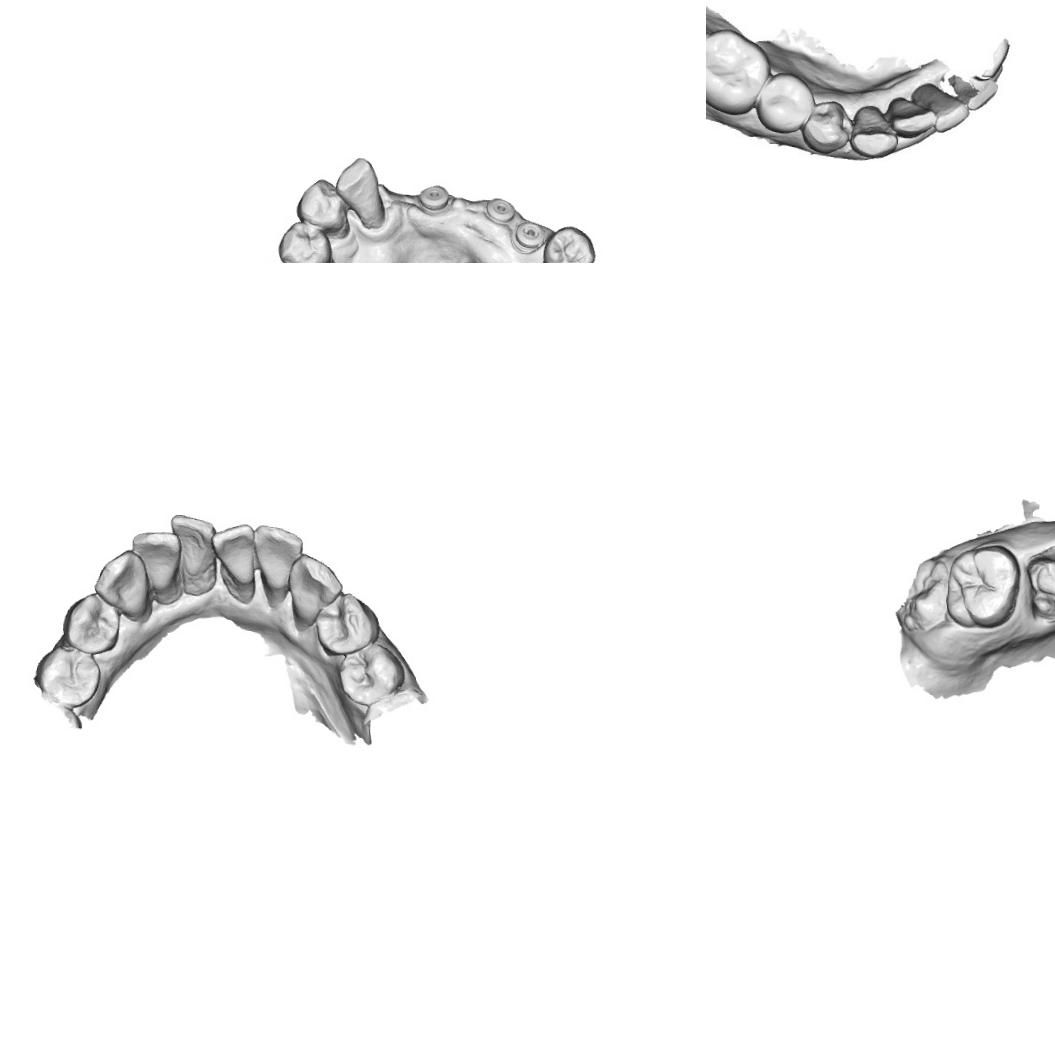canine: (90, 547, 156, 623), (284, 552, 345, 625), (332, 154, 388, 230), (848, 105, 898, 159)
implant: (416, 182, 450, 214), (481, 196, 516, 226)
implant_minus: (507, 218, 546, 254)
incisor: (126, 524, 184, 596), (250, 521, 308, 591), (164, 510, 218, 580), (207, 520, 259, 582), (911, 84, 972, 132), (888, 96, 935, 140)
molar: (941, 542, 1023, 632), (706, 27, 768, 116)
premolar: (334, 638, 408, 708), (310, 588, 381, 658), (31, 643, 103, 710), (57, 591, 122, 655), (756, 69, 816, 135), (292, 175, 352, 239), (799, 100, 852, 155), (274, 218, 338, 263), (539, 222, 598, 263)
